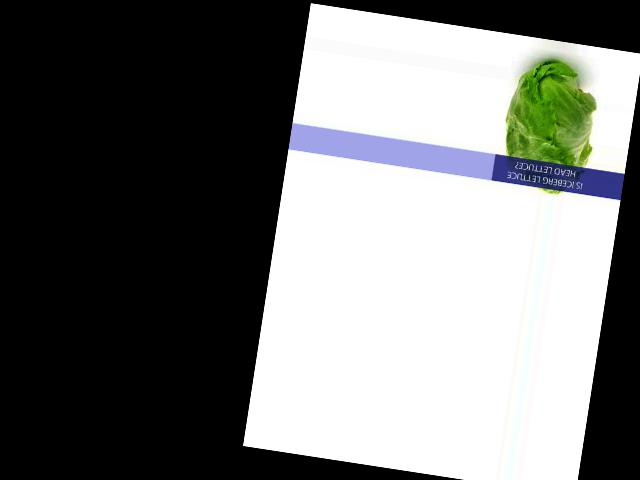lettuce: (466, 89, 600, 199)
